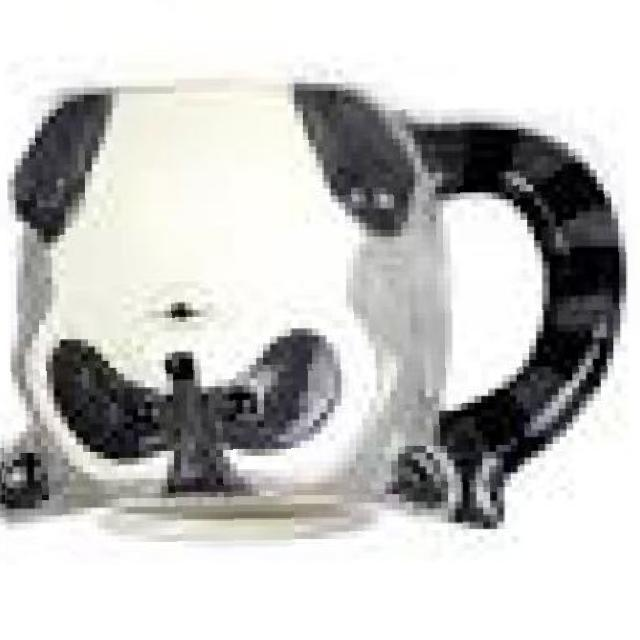cup: (0, 58, 638, 566)
